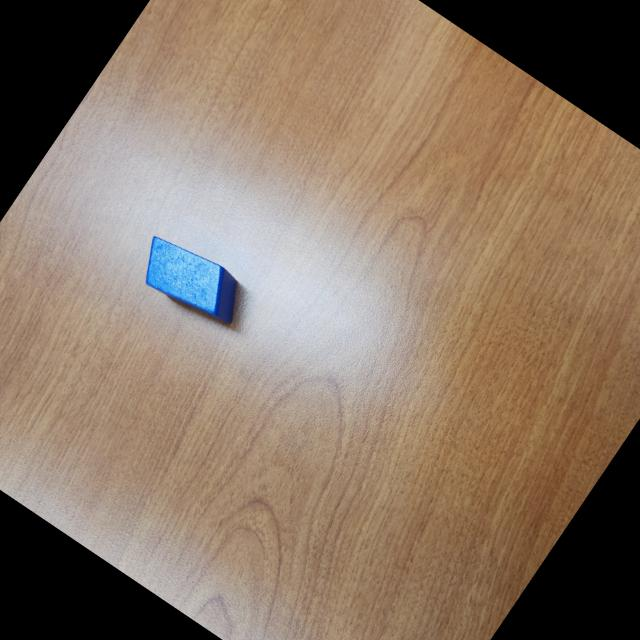blue: (126, 224, 258, 340)
